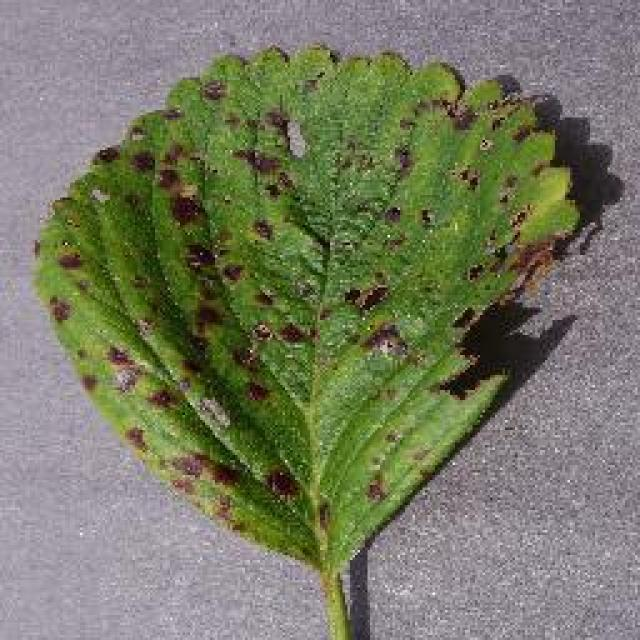Strawberry leaf scorch: (140, 127, 483, 413), (157, 433, 365, 515)
